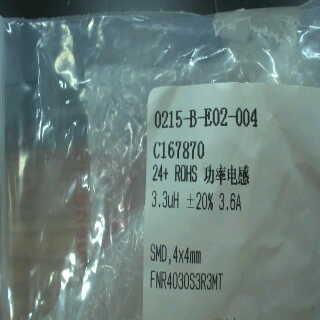3.3uH: (149, 187, 183, 213)
